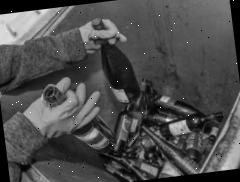glass: (90, 67, 229, 182), (41, 76, 121, 160), (86, 13, 142, 106)
